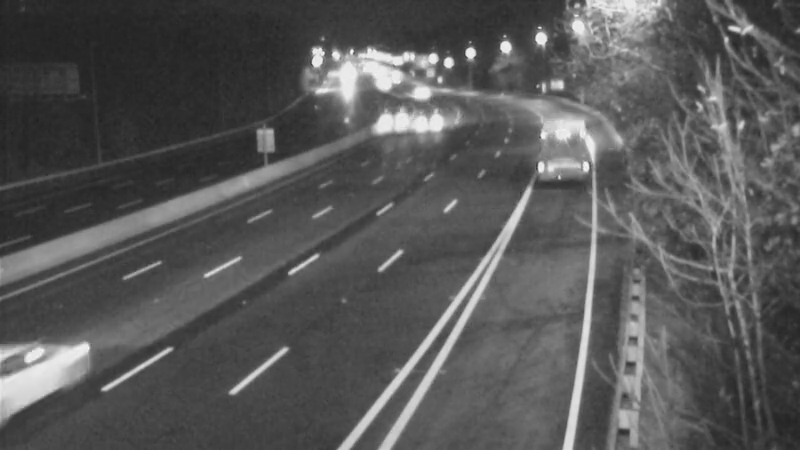vehicle: (1, 320, 100, 430), (400, 68, 450, 118), (399, 97, 449, 147), (364, 94, 414, 144), (536, 119, 586, 169)
